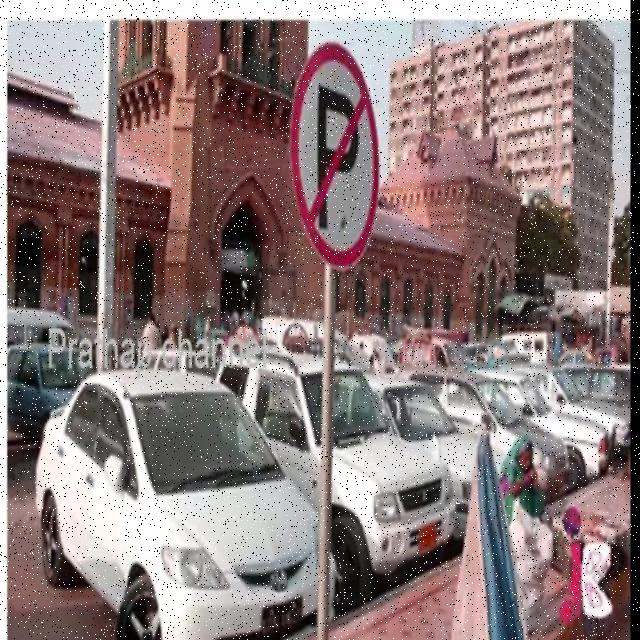No_parking: (289, 39, 380, 274)
